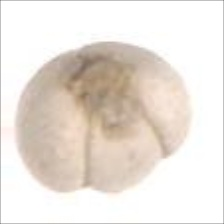L5: (85, 96, 169, 196)
L6: (12, 38, 197, 199), (62, 52, 136, 110)
